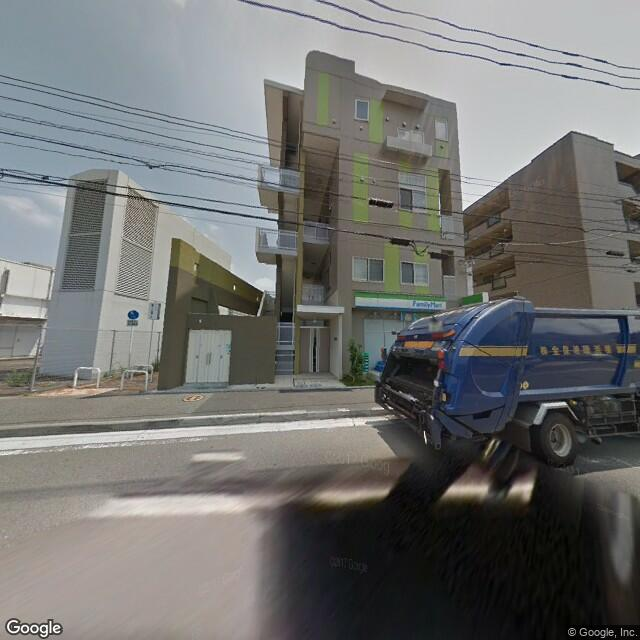family_mart: (351, 288, 447, 315)
